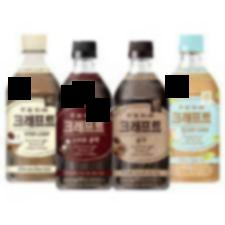georgiacraft_black: (111, 37, 172, 193)
